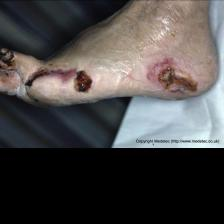Wound: (142, 52, 203, 100), (26, 66, 101, 90), (0, 46, 25, 74)
